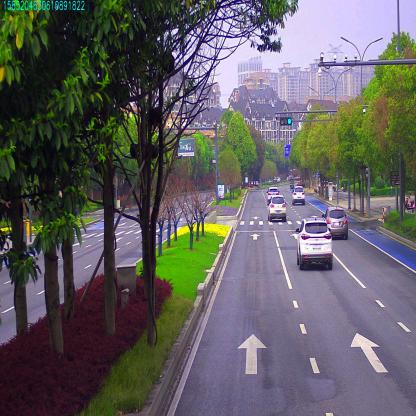traffic-light: (281, 118, 292, 125)
